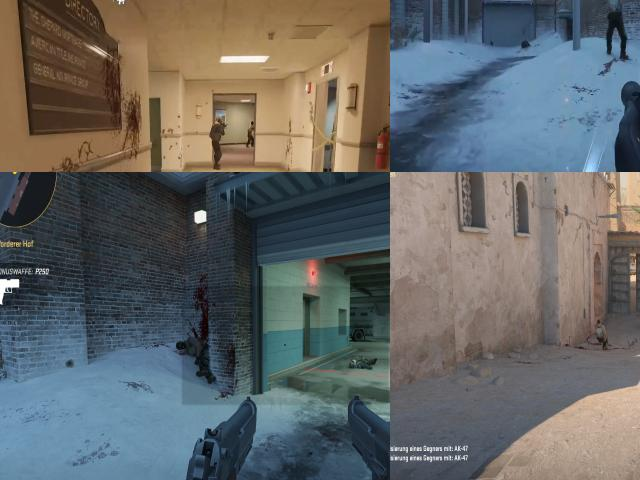CT: (210, 114, 226, 160)
CT-Head: (213, 115, 224, 129)
Dead: (176, 333, 222, 389), (592, 319, 613, 352), (346, 354, 382, 370), (518, 36, 532, 50)
T: (604, 0, 626, 22), (244, 115, 256, 150)
T-Head: (247, 116, 256, 128)
